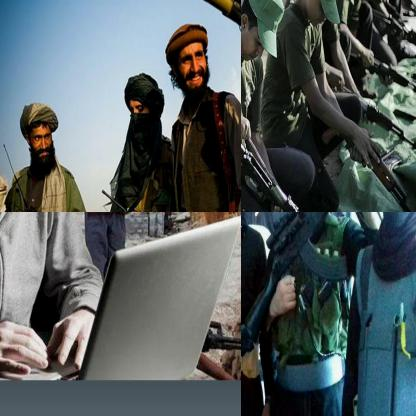rifle: (244, 212, 385, 344), (241, 107, 346, 211), (322, 117, 415, 211), (332, 78, 415, 154), (179, 0, 240, 62), (348, 54, 415, 102), (358, 10, 415, 60), (200, 320, 240, 381), (400, 0, 415, 28)
